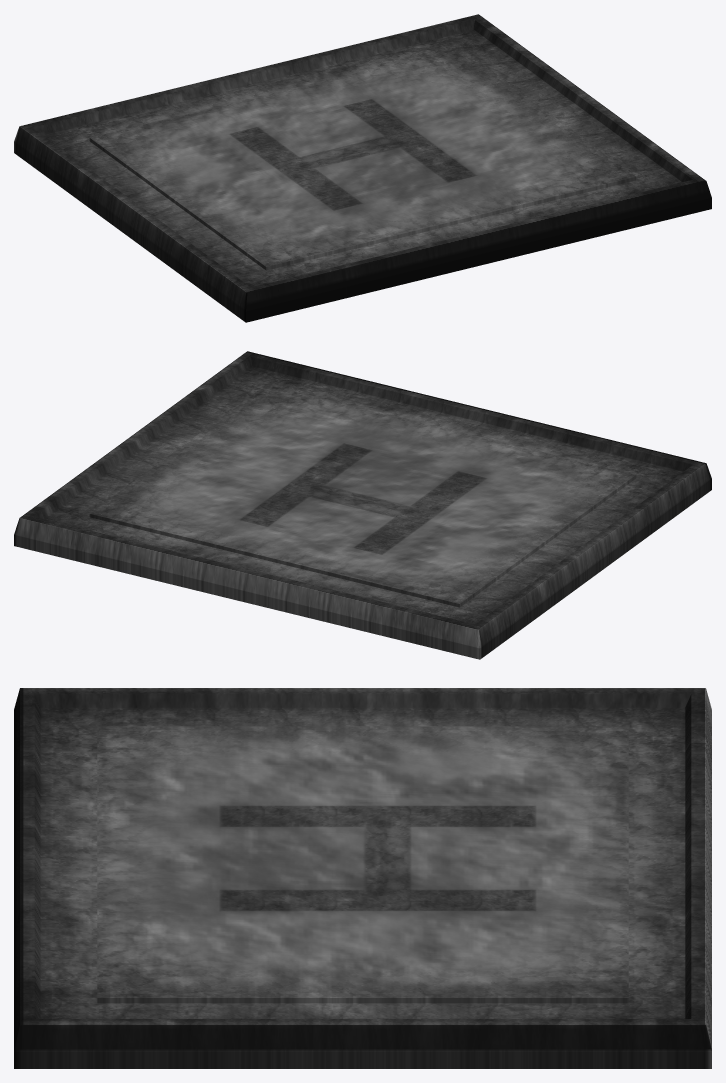
The model's file is Helipad.FBX.
3 renders of one model, top to bottom at view 1: azimuth 30°, elevation 25°; view 2: azimuth 150°, elevation 25°; view 3: azimuth 270°, elevation 25°, orthographic. The views are drawn at different scales.
Parts seen in each view (by area): view 1: Box76; view 2: Box76; view 3: Box76.
Part boxes in pixels (x1,y1,x2,y2): Box76: [14, 14, 711, 322]; Box76: [14, 351, 711, 659]; Box76: [14, 688, 711, 1068].
Bounding box in the file's own units: 44.16 × 2.48 × 38.07.
